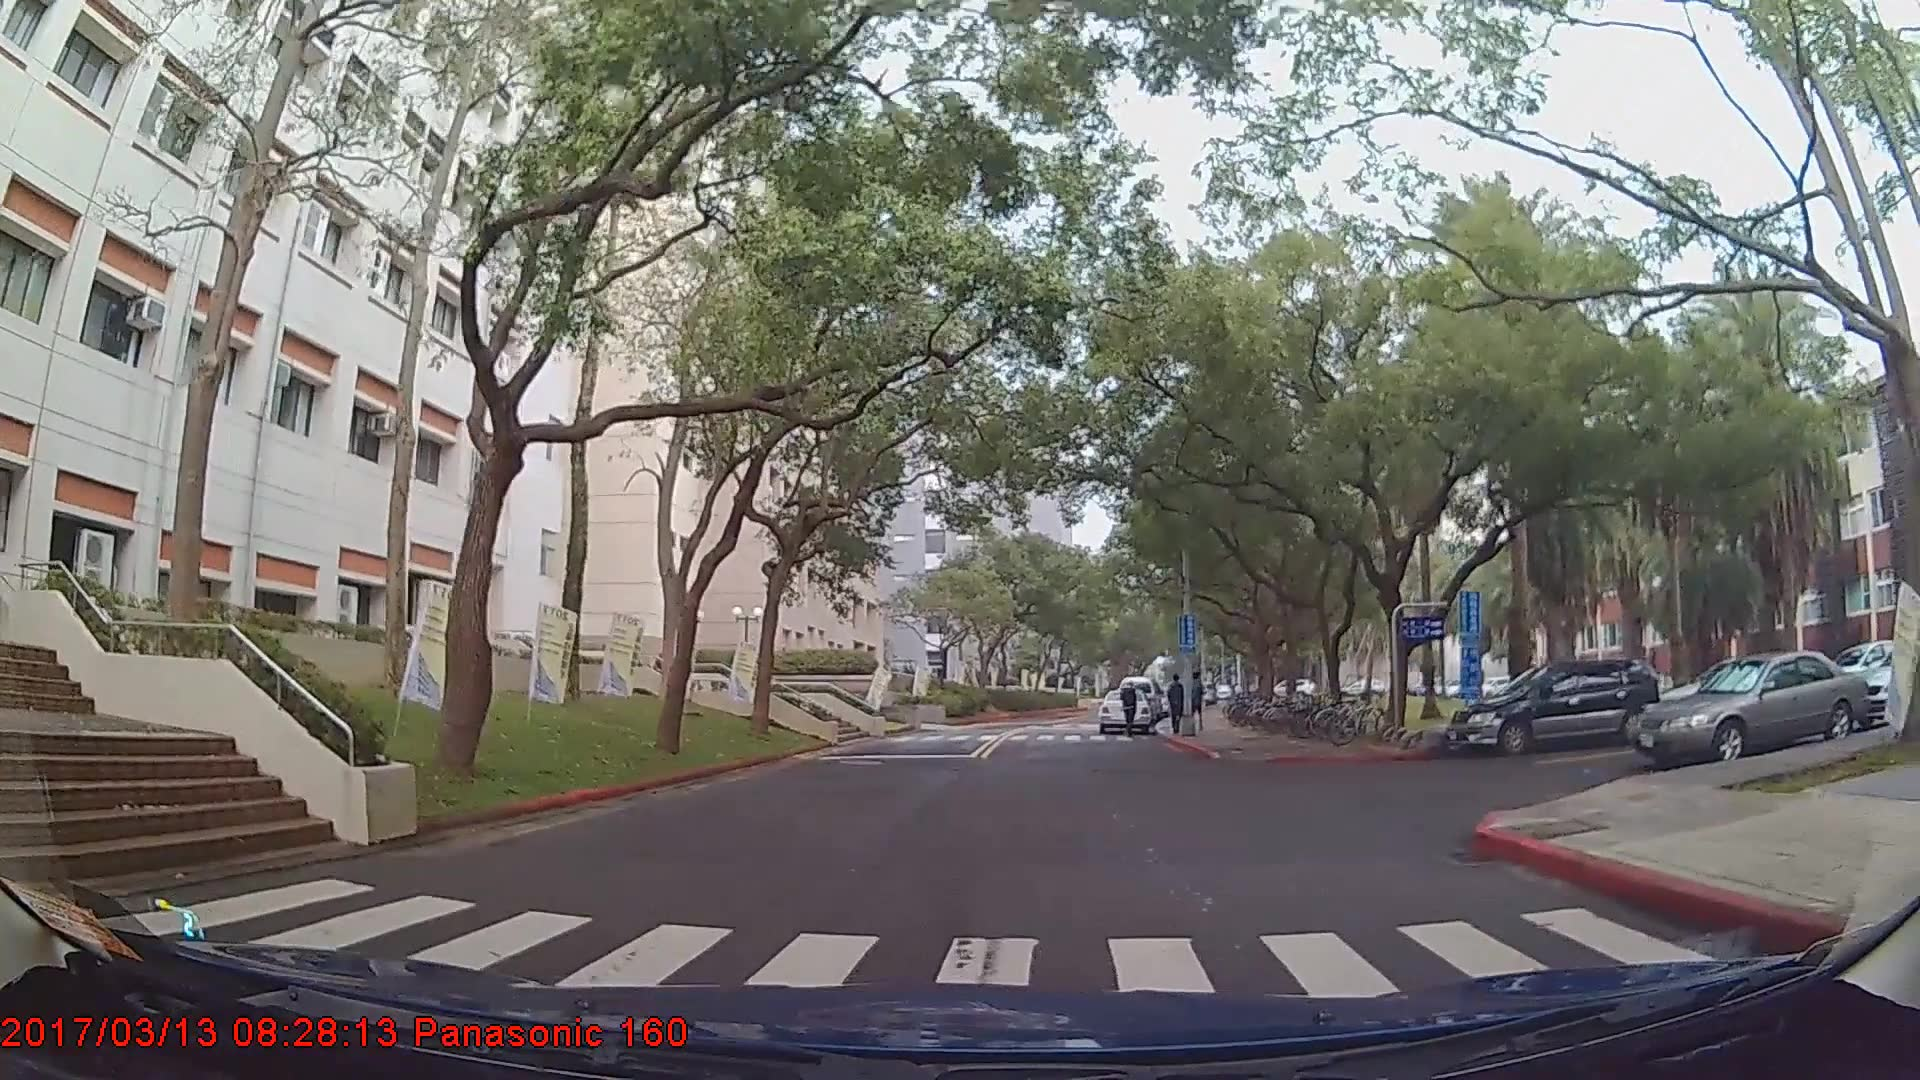pedestrian: (1168, 677, 1190, 733), (1119, 681, 1139, 740)
vehicle: (1632, 649, 1868, 767), (1448, 655, 1659, 757), (1093, 687, 1151, 733)
